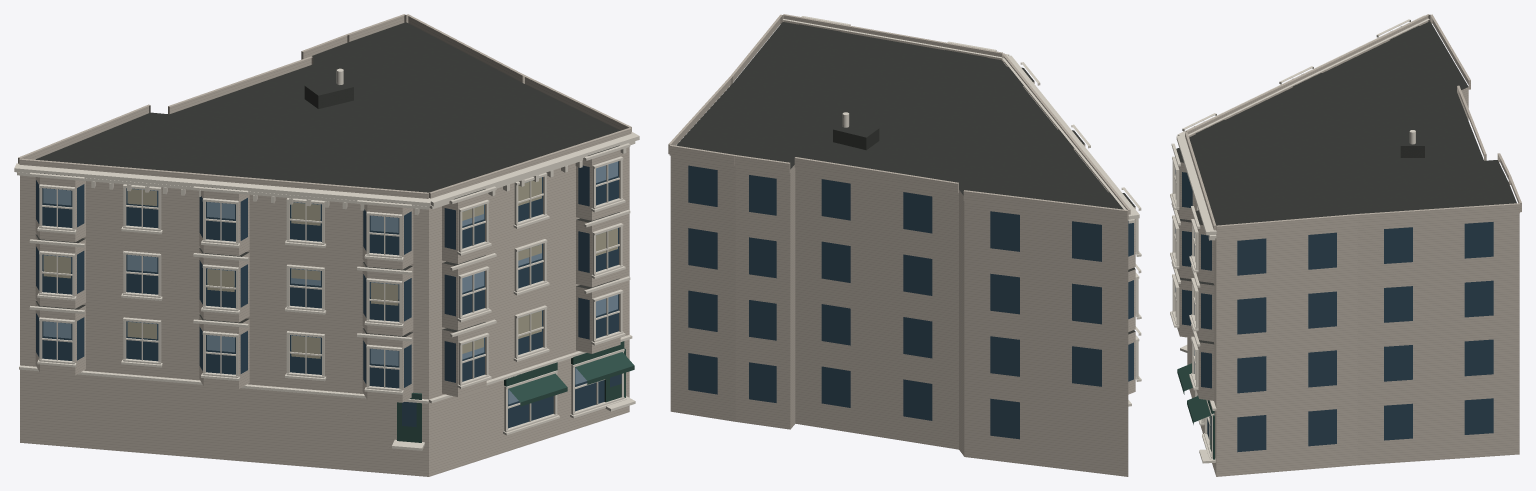
3 views of the same model, side by side, from view 1: azimuth 30°, elevation 25°; view 2: azimuth 150°, elevation 25°; view 3: azimuth 270°, elevation 25° (orthographic). The views are drawn at different scales.
Visible parts, largest first — view 1: Footprint 0 / surface 2, Footprint 0 / surface 1, Cornices and window frames, Facade bay volumes, Inset glazing, Interior blind variation, Sky reflection panels, Storefronts and doors, Roof; view 2: Footprint 0 / surface 2, Footprint 0 / surface 1, Inset glazing, Facade bay volumes, Cornices and window frames; view 3: Footprint 0 / surface 2, Footprint 0 / surface 1, Inset glazing, Facade bay volumes, Cornices and window frames, Storefronts and doors, Roof.
Boxes of the visible parts, x1,y1,x2,y2 form: Footprint 0 / surface 2: (20, 64, 629, 476); Footprint 0 / surface 1: (35, 22, 620, 192); Cornices and window frames: (14, 132, 639, 450); Facade bay volumes: (18, 14, 631, 402); Inset glazing: (36, 161, 621, 428); Interior blind variation: (43, 177, 617, 358); Sky reflection panels: (43, 161, 617, 404); Storefronts and doors: (397, 341, 634, 442); Roof: (35, 145, 619, 336); Footprint 0 / surface 2: (670, 155, 1128, 476); Footprint 0 / surface 1: (676, 22, 1121, 209); Inset glazing: (688, 165, 1133, 439); Facade bay volumes: (668, 14, 1135, 394); Cornices and window frames: (783, 16, 1141, 406); Footprint 0 / surface 2: (1187, 87, 1519, 476); Footprint 0 / surface 1: (1189, 21, 1516, 225); Inset glazing: (1182, 172, 1493, 452); Facade bay volumes: (1177, 14, 1521, 400); Cornices and window frames: (1170, 15, 1429, 463); Storefronts and doors: (1177, 363, 1214, 459); Roof: (1176, 26, 1419, 344).
Size of the model in its own units: 25.33 by 14.65 by 17.39.
